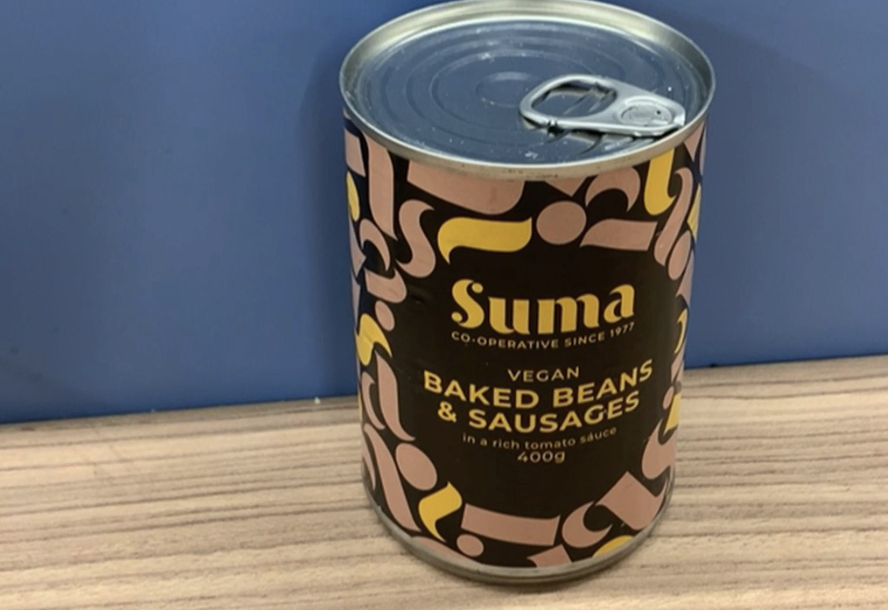Baked beans_400-499g: (381, 206, 659, 538)
